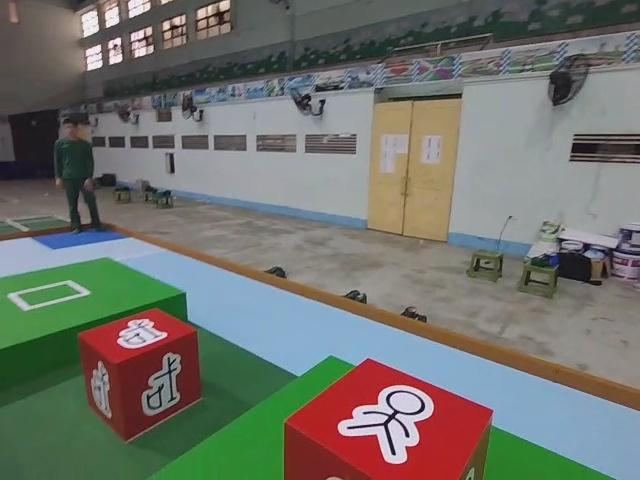R2 Real: (282, 357, 492, 480), (78, 309, 203, 446)
